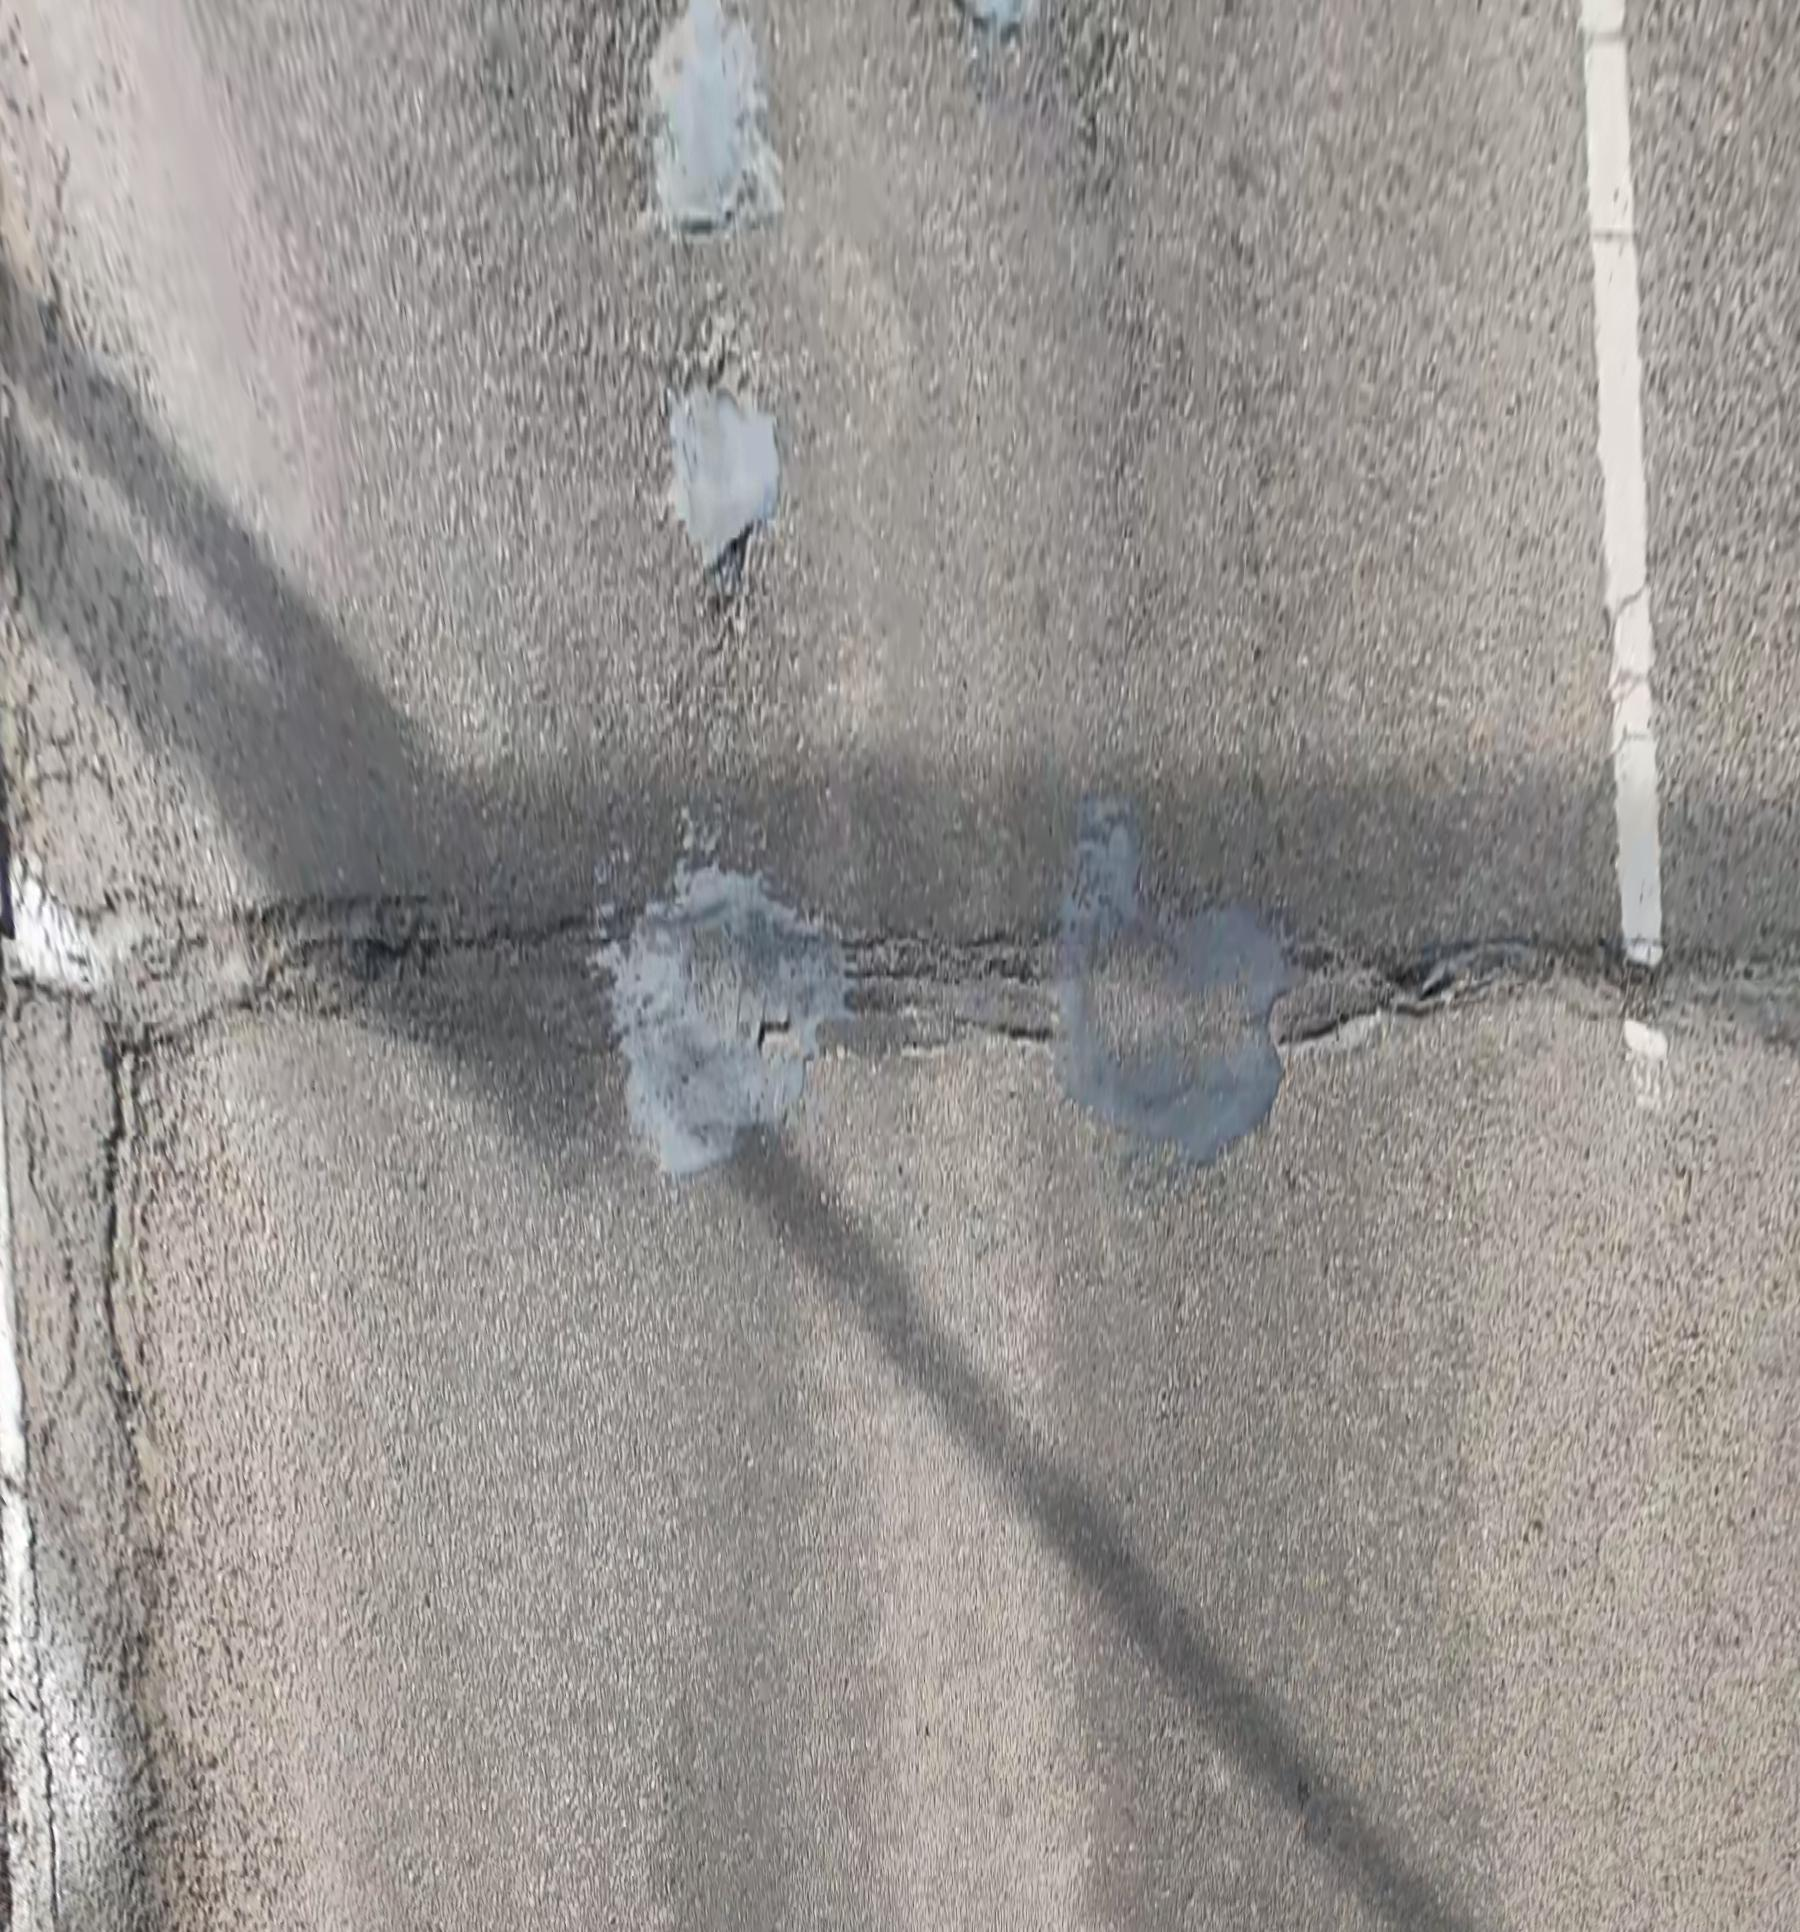pothole_patch_good: (1047, 822, 1299, 1169), (587, 859, 854, 1184), (653, 374, 805, 592)
